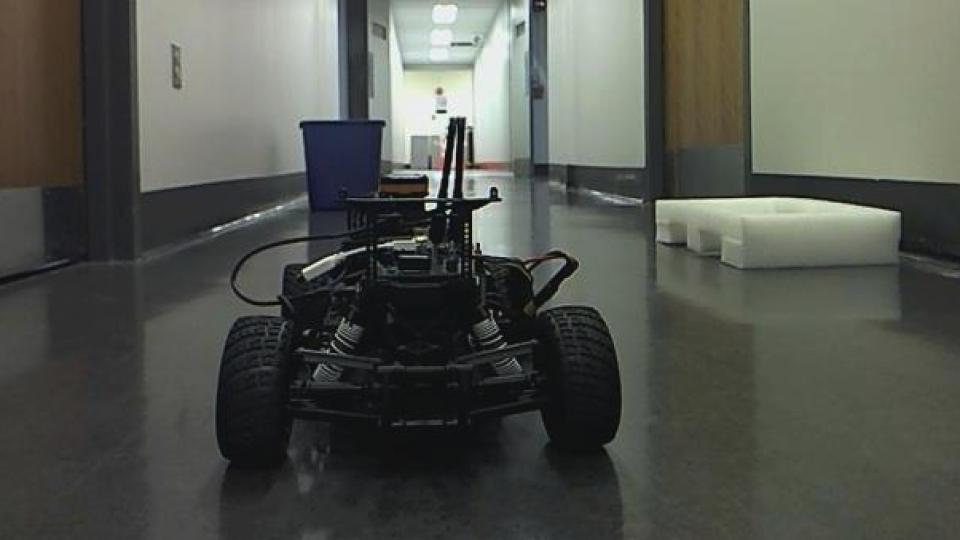car: (211, 115, 625, 471)
